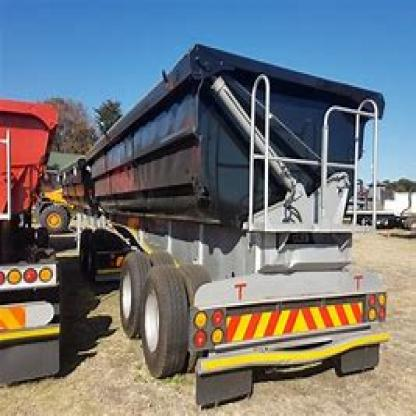dump_truck: (69, 43, 391, 386)
